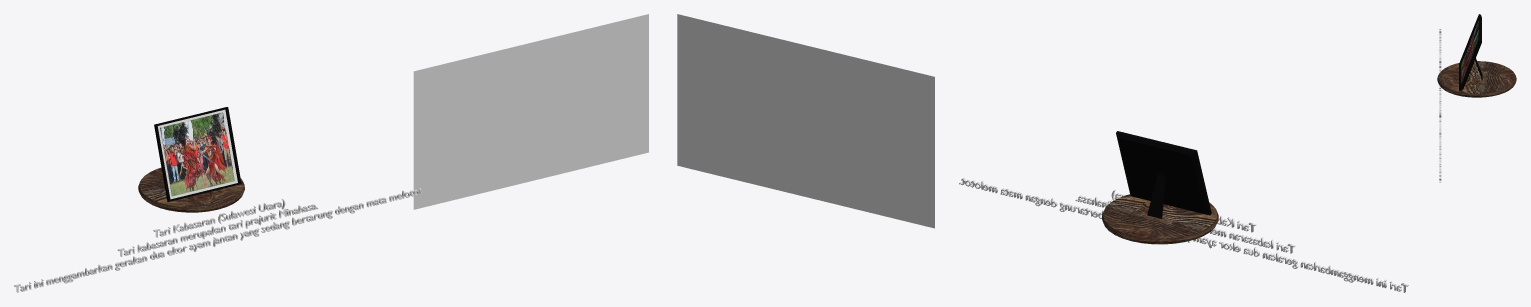
Rendered from 30. Tari kebasaran (Sulawesi Utara(.fbx.
3 views of the same model, side by side, from view 1: azimuth 30°, elevation 25°; view 2: azimuth 150°, elevation 25°; view 3: azimuth 270°, elevation 25° (orthographic). The views are drawn at different scales.
Parts seen in each view (by area): view 1: Plane, Cube.019, Text; view 2: Plane, Cube.019, Text; view 3: Cube.019, Text.
Part boxes in pixels (left/top/right/bottom): Plane: left=413, top=14, right=648, bottom=209; Cube.019: left=138, top=107, right=244, bottom=212; Text: left=14, top=188, right=424, bottom=292; Plane: left=677, top=14, right=934, bottom=228; Cube.019: left=1102, top=131, right=1218, bottom=244; Text: left=959, top=178, right=1408, bottom=292; Cube.019: left=1437, top=14, right=1516, bottom=97; Text: left=1439, top=29, right=1441, bottom=182.
Bounding box in the file's own units: 8848 × 1806 × 1260.
6 materials, 3 textured.
